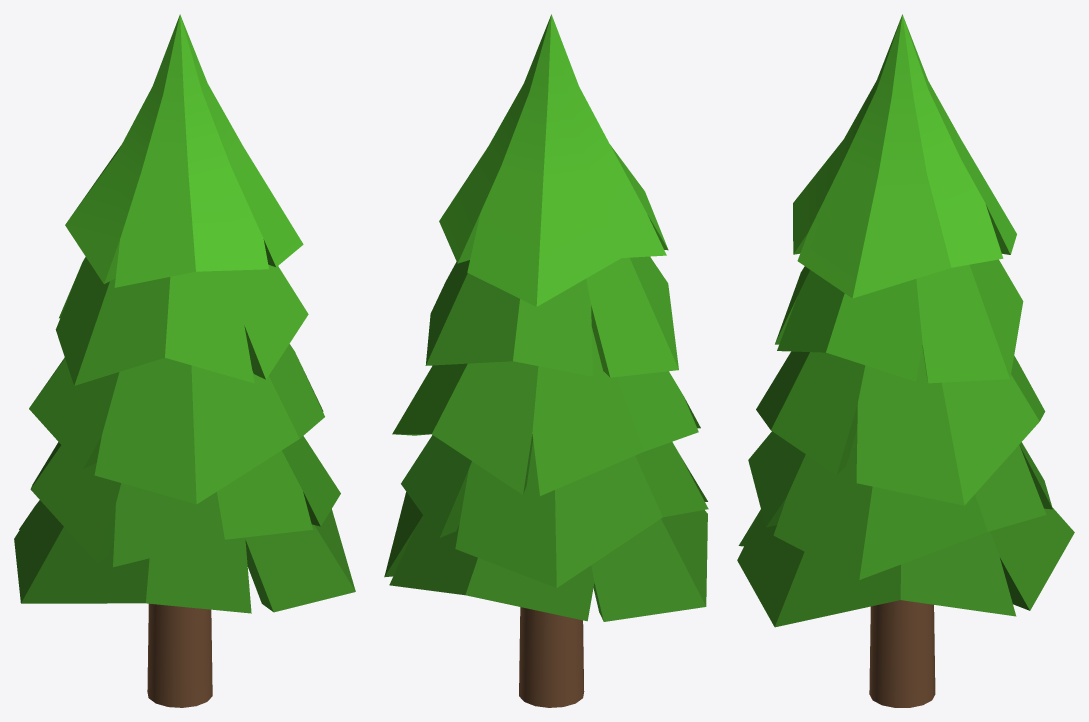
Rendered from Spruce_Green_3.fbx.
3 views of the same model, side by side, from view 1: azimuth 30°, elevation 25°; view 2: azimuth 150°, elevation 25°; view 3: azimuth 270°, elevation 25° (orthographic).
Visible parts, largest first — view 1: Cylinder.346, Cylinder.347, Cylinder.348, Cylinder.350, Cylinder.349, Cylinder.351; view 2: Cylinder.346, Cylinder.347, Cylinder.349, Cylinder.348, Cylinder.350, Cylinder.351; view 3: Cylinder.346, Cylinder.347, Cylinder.349, Cylinder.348, Cylinder.350, Cylinder.351.
Boxes of the visible parts, x1=… form: Cylinder.346: x1=65, y1=14, x2=303, y2=287; Cylinder.347: x1=29, y1=344, x2=324, y2=504; Cylinder.348: x1=55, y1=257, x2=308, y2=385; Cylinder.350: x1=14, y1=500, x2=355, y2=613; Cylinder.349: x1=30, y1=436, x2=340, y2=567; Cylinder.351: x1=147, y1=603, x2=212, y2=707; Cylinder.346: x1=439, y1=14, x2=668, y2=306; Cylinder.347: x1=392, y1=327, x2=700, y2=495; Cylinder.349: x1=401, y1=435, x2=708, y2=587; Cylinder.348: x1=425, y1=256, x2=678, y2=377; Cylinder.350: x1=384, y1=492, x2=707, y2=621; Cylinder.351: x1=519, y1=607, x2=584, y2=707; Cylinder.346: x1=793, y1=14, x2=1016, y2=298; Cylinder.347: x1=756, y1=346, x2=1045, y2=505; Cylinder.349: x1=748, y1=429, x2=1052, y2=579; Cylinder.348: x1=775, y1=259, x2=1023, y2=383; Cylinder.350: x1=737, y1=507, x2=1074, y2=627; Cylinder.351: x1=869, y1=600, x2=935, y2=707.
Size of the model in its own units: 265 by 567 by 255.
